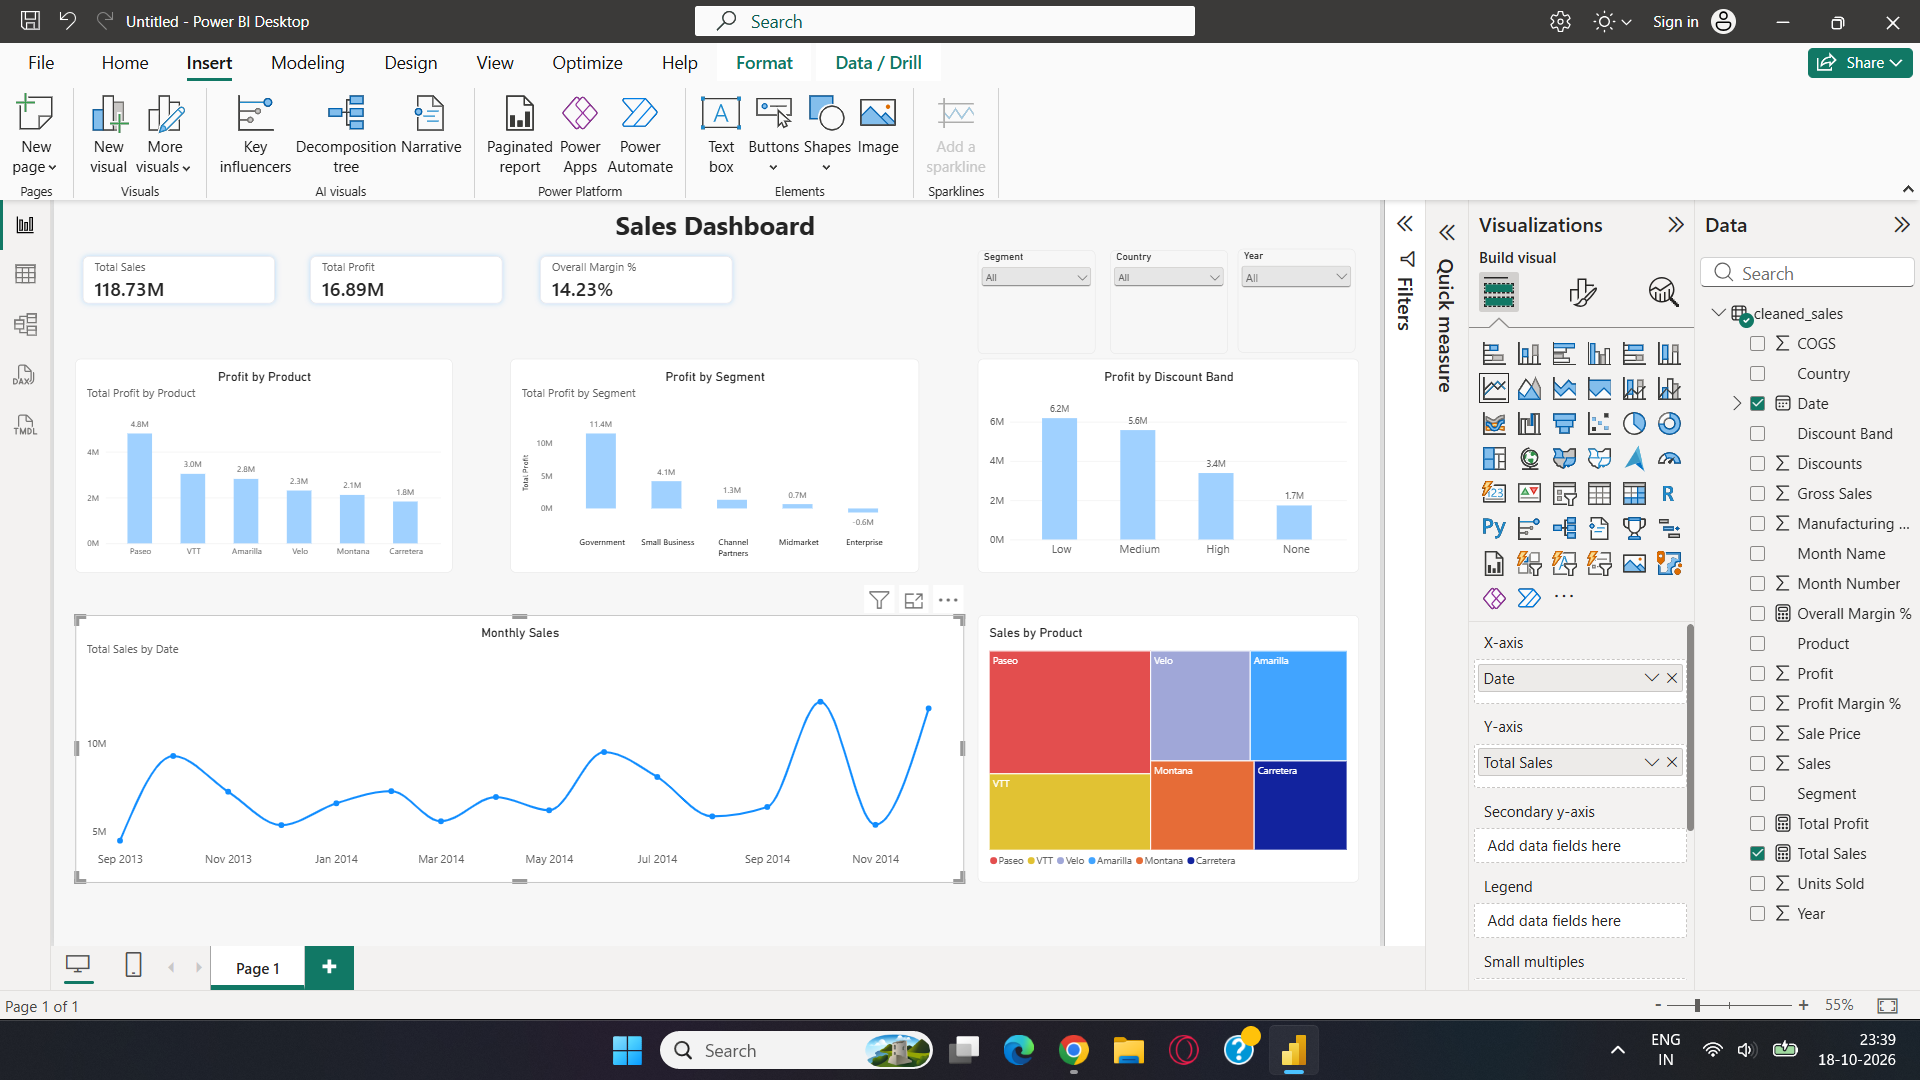

The page's visual inventory and layout, read from the dashboard file:
{"tool":"powerbi","page":{"name":"Page 1","canvas":[1920,1080],"ordinal":0},"visuals":[{"type":"cardVisual","fields":{"Data":["cleaned_sales.Total Sales"]},"box":[30.8,70.6,300,90],"z":0},{"type":"cardVisual","fields":{"Data":["cleaned_sales.Total Profit"]},"box":[360.1,70.6,300,90],"z":1000},{"type":"cardVisual","fields":{"Data":["cleaned_sales.Overall Margin %"]},"box":[693.1,70.6,300,90],"z":2000},{"type":"clusteredColumnChart","title":"Profit by Segment","fields":{"Category":["cleaned_sales.Segment"],"Y":["cleaned_sales.Total Profit"]},"box":[660.5,229.8,591.8,309.5],"z":3000},{"type":"clusteredColumnChart","title":"Profit by Product","fields":{"Category":["cleaned_sales.Product"],"Y":["cleaned_sales.Total Profit"]},"box":[30.8,229.8,546.5,309.5],"z":4000},{"type":"clusteredColumnChart","title":"Profit by Discount Band","fields":{"Category":["cleaned_sales.Discount Band"],"Y":["cleaned_sales.Total Profit"]},"box":[1337.3,229.8,551.9,309.5],"z":5000},{"type":"lineChart","title":"Monthly Sales","fields":{"Category":["cleaned_sales.Date"],"Y":["cleaned_sales.Total Sales"]},"box":[30.8,600.8,1286.7,387.3],"z":6000},{"type":"slicer","fields":{"Values":["cleaned_sales.Year"]},"box":[1713.7,70.6,170.1,150.2],"z":7000},{"type":"slicer","fields":{"Values":["cleaned_sales.Country"]},"box":[1529.2,72.4,170,150.2],"z":8000},{"type":"slicer","fields":{"Values":["cleaned_sales.Segment"]},"box":[1337.3,72.4,170,150.2],"z":9000},{"type":"textbox","title":"Sales Dashboard","box":[30.8,10.9,1853.1,59.7],"z":10000},{"type":"treemap","title":"Sales by Product","fields":{"Group":["cleaned_sales.Product"],"Values":["cleaned_sales.Total Sales"]},"box":[1337.3,600.8,551.9,387.3],"z":11000}]}

Visuals, with their boxes on the page's 1920x1080 design canvas (x1, y1, x2, y2). These are canvas units, not pixel positions in the 1920x1080 screenshot, which may show the page scaled, cropped or inside an application window:
cardVisual - cleaned_sales.Total Sales: x1=31, y1=71, x2=331, y2=161
cardVisual - cleaned_sales.Total Profit: x1=360, y1=71, x2=660, y2=161
cardVisual - cleaned_sales.Overall Margin %: x1=693, y1=71, x2=993, y2=161
"Profit by Segment" clusteredColumnChart: x1=660, y1=230, x2=1252, y2=539
"Profit by Product" clusteredColumnChart: x1=31, y1=230, x2=577, y2=539
"Profit by Discount Band" clusteredColumnChart: x1=1337, y1=230, x2=1889, y2=539
"Monthly Sales" lineChart: x1=31, y1=601, x2=1318, y2=988
slicer - cleaned_sales.Year: x1=1714, y1=71, x2=1884, y2=221
slicer - cleaned_sales.Country: x1=1529, y1=72, x2=1699, y2=223
slicer - cleaned_sales.Segment: x1=1337, y1=72, x2=1507, y2=223
"Sales Dashboard" textbox: x1=31, y1=11, x2=1884, y2=71
"Sales by Product" treemap: x1=1337, y1=601, x2=1889, y2=988
